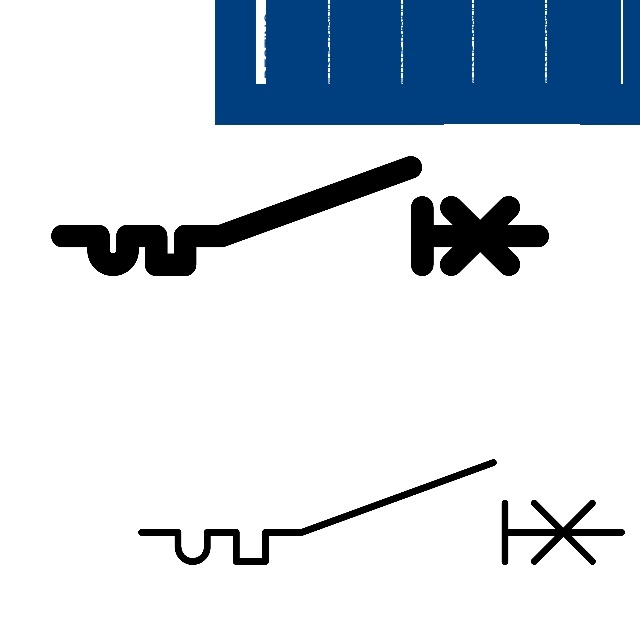interruptor_termomagnetico: (129, 450, 634, 574), (50, 155, 550, 277)
